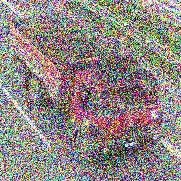truck: (4, 6, 165, 172)
